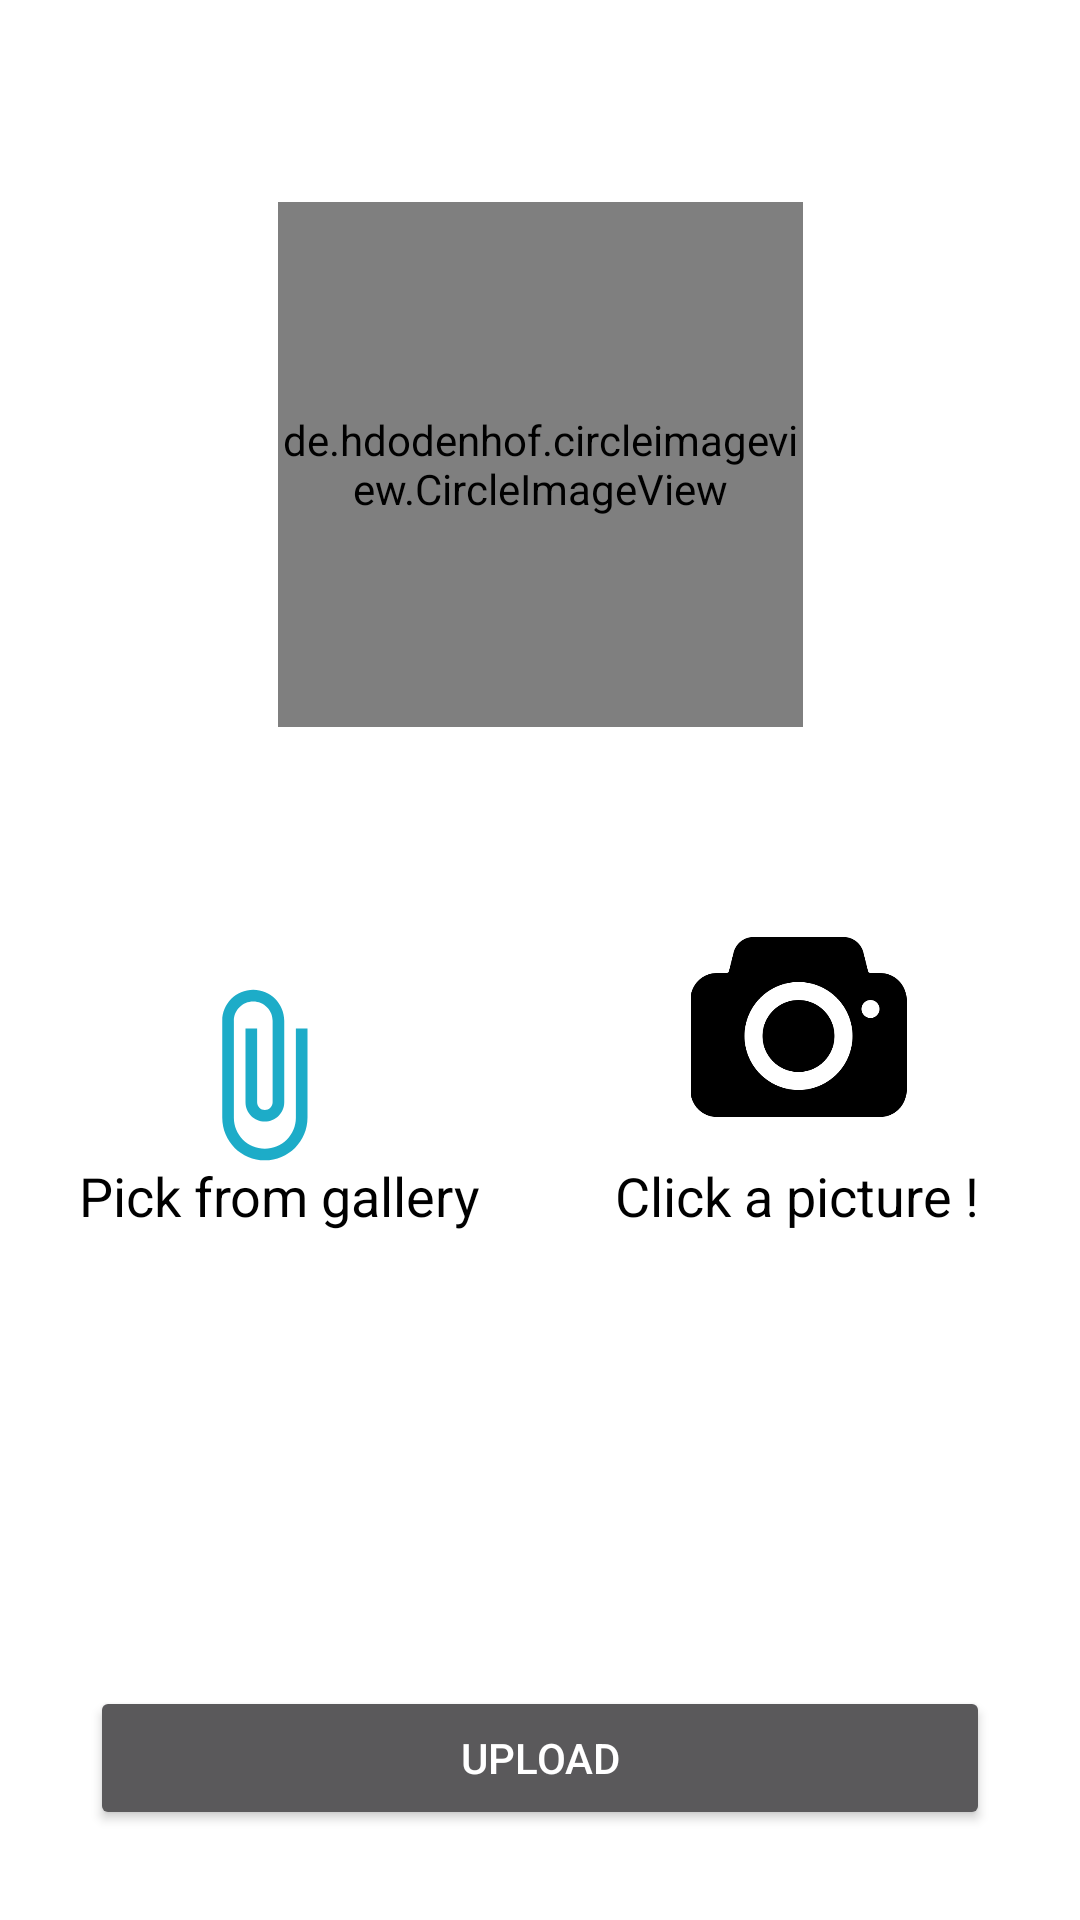

Icon click points for this 1080w x 1920h phone screenshot, format [x,y]:
camera: [799,1027]
